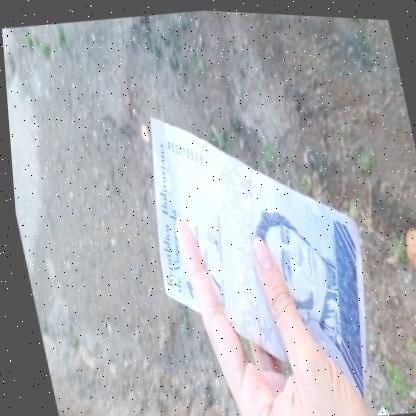ten-front-vef: (122, 87, 391, 416)
